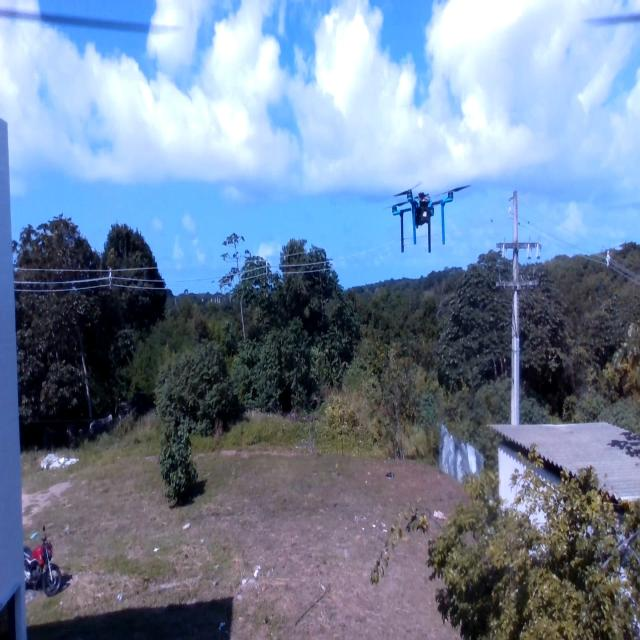-uav-: (384, 168, 474, 262)
